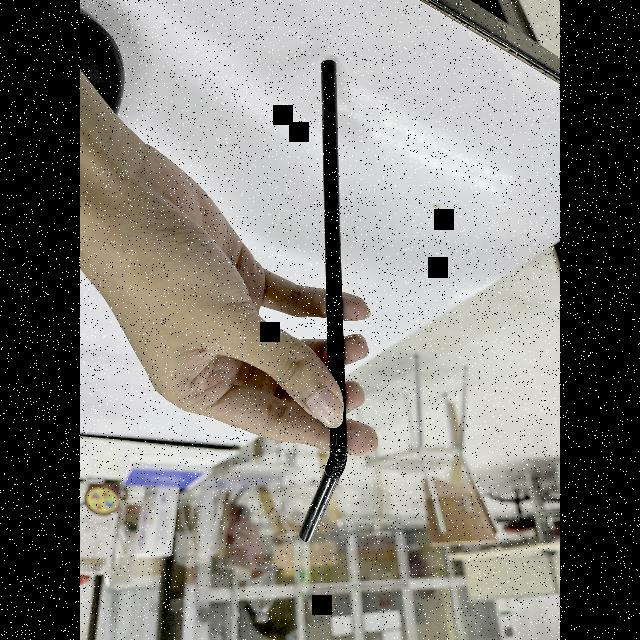straw: (292, 52, 350, 548)
